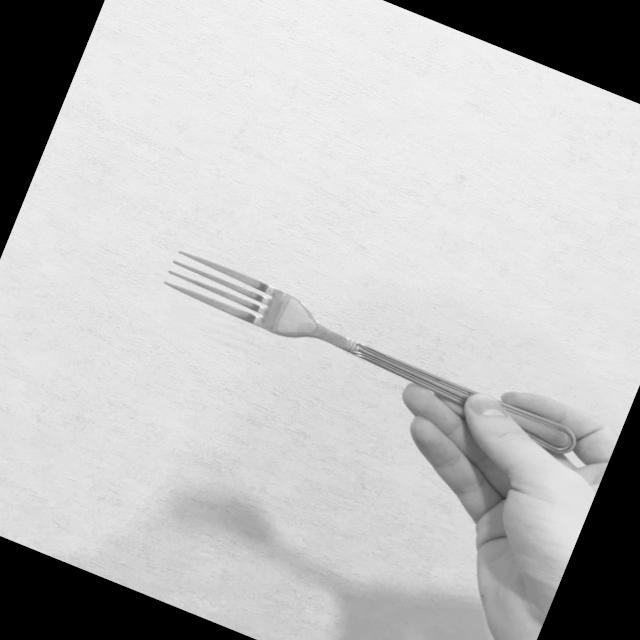fork: (153, 242, 602, 464)
